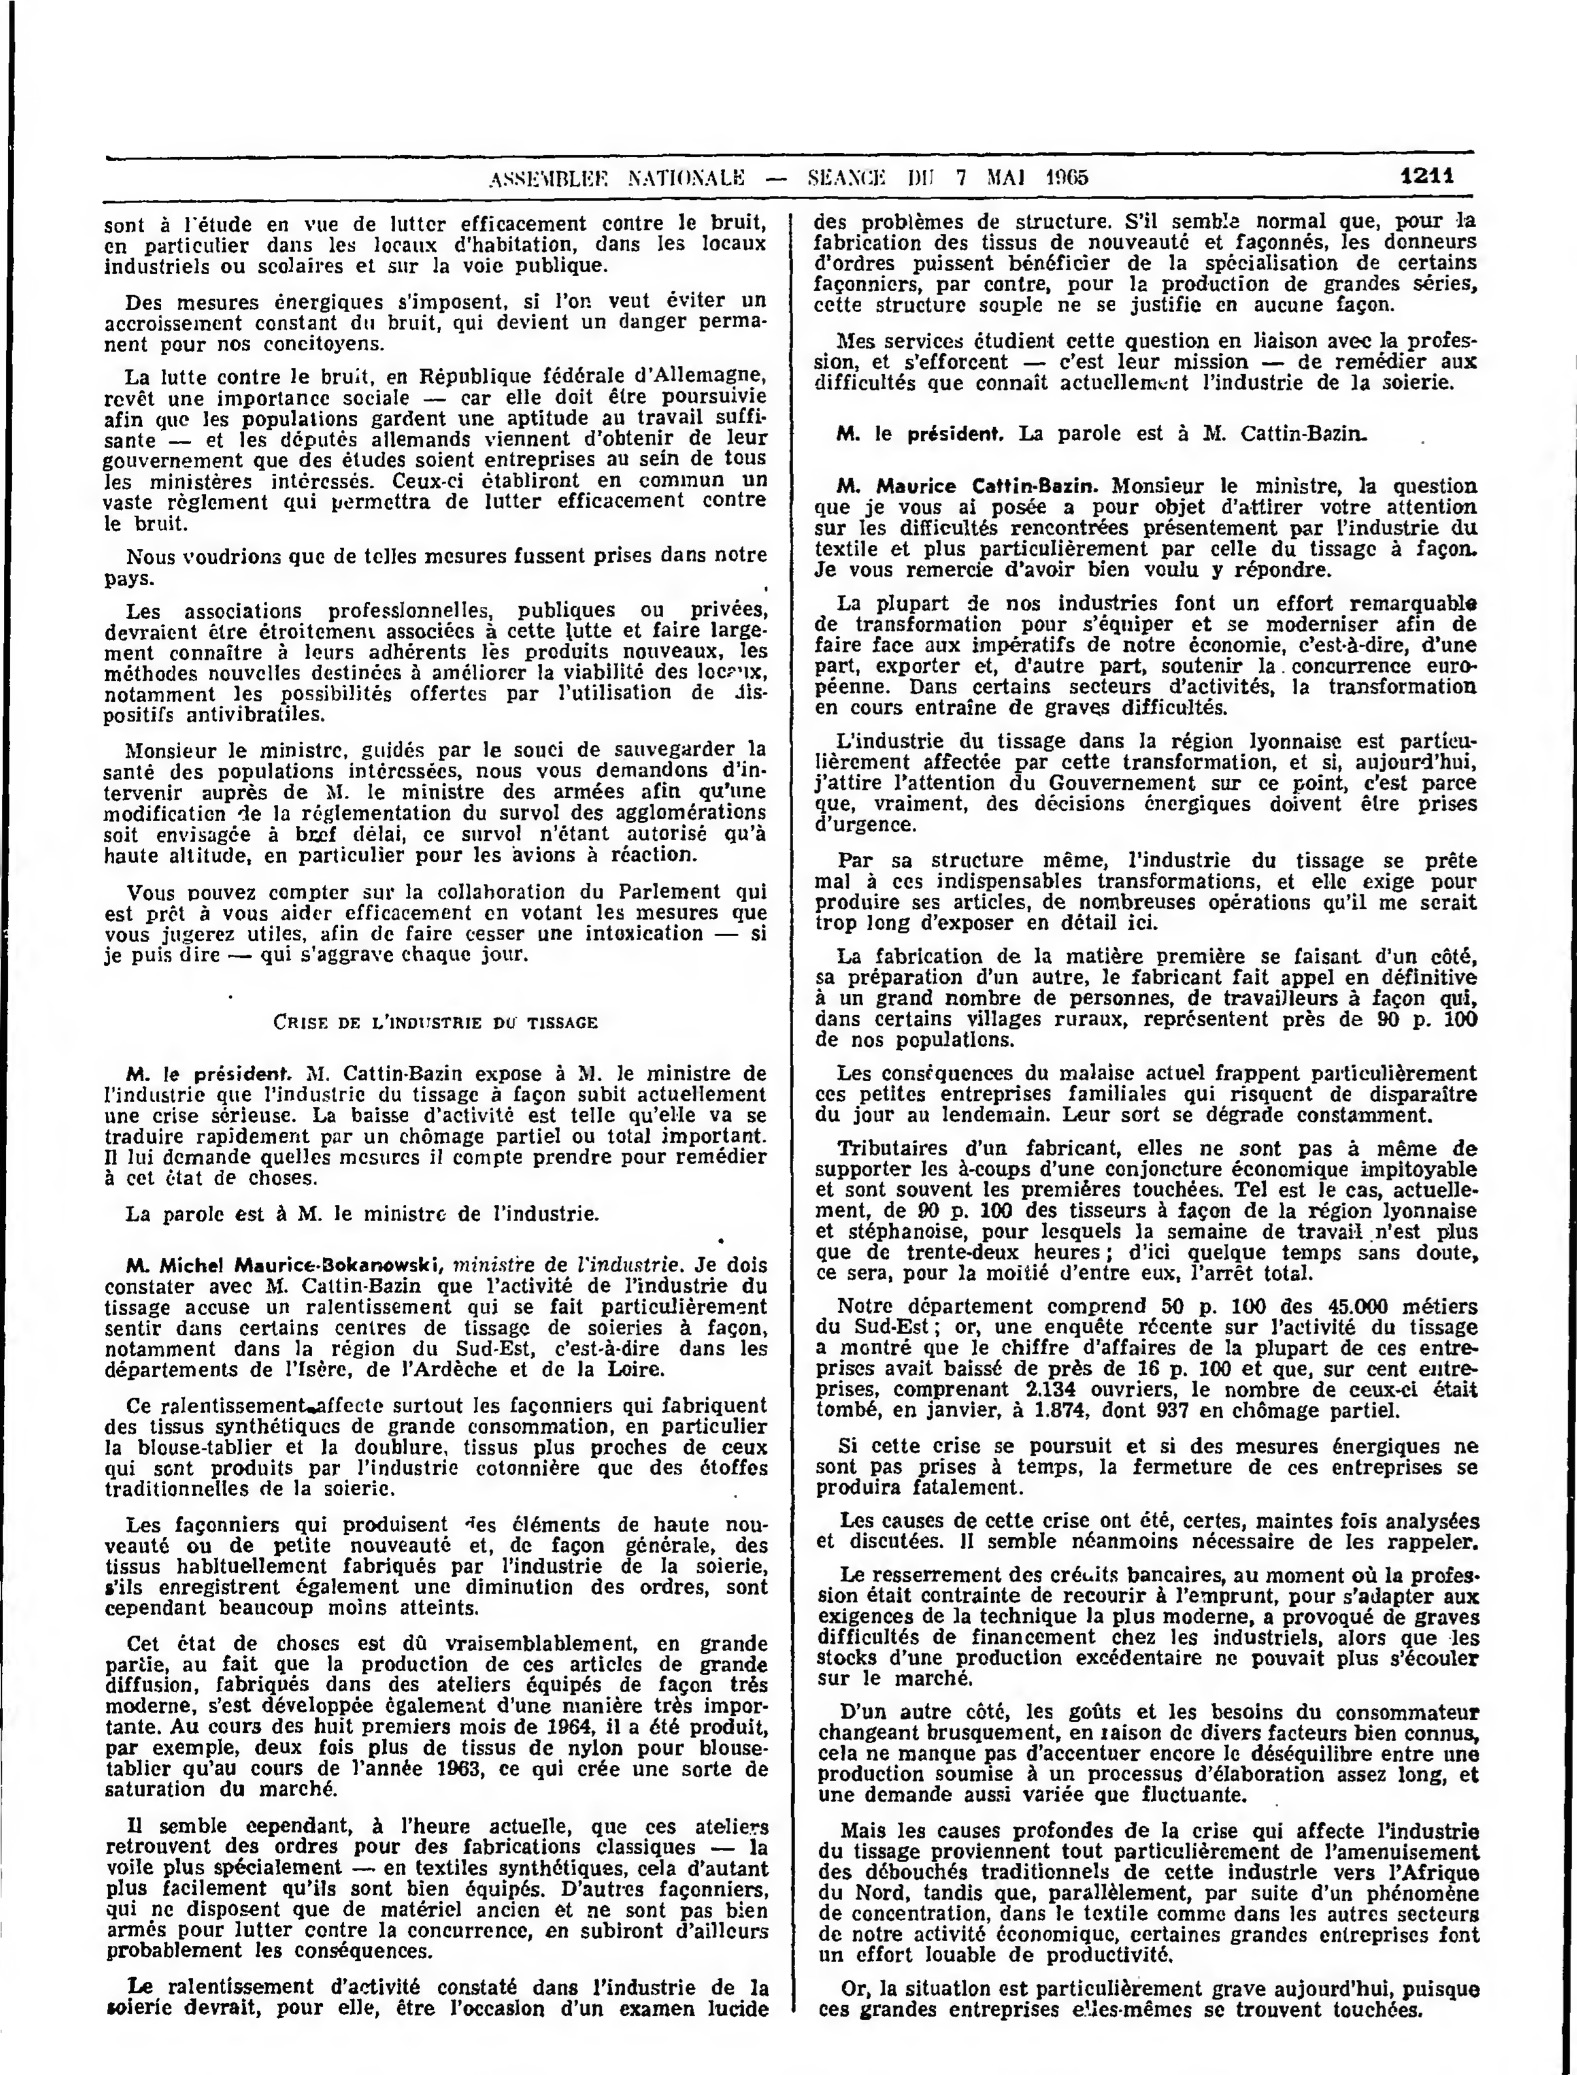MainZone-Continued: (807, 207, 1484, 321), (97, 206, 774, 281)
MainZone-Head: (264, 1003, 605, 1043)
MainZone-P: (97, 1630, 776, 1804), (97, 363, 775, 537), (810, 1134, 1488, 1287), (99, 1812, 778, 1964), (814, 1816, 1490, 1967), (96, 735, 775, 871), (95, 1057, 774, 1192), (96, 1250, 775, 1385), (810, 1291, 1489, 1426), (808, 589, 1483, 722), (96, 596, 775, 728), (813, 1561, 1489, 1693), (810, 469, 1486, 585), (96, 1509, 775, 1624), (809, 941, 1486, 1055), (96, 1390, 775, 1503), (810, 725, 1486, 838), (814, 1696, 1489, 1808), (95, 876, 774, 973), (809, 844, 1486, 938), (807, 324, 1484, 404), (96, 286, 773, 360), (810, 1430, 1486, 1504), (809, 1059, 1484, 1130), (99, 1972, 777, 2029), (96, 541, 776, 596), (813, 1975, 1488, 2029), (811, 1507, 1487, 1559), (816, 414, 1402, 455), (97, 1196, 610, 1233)
NumberingZone: (1395, 159, 1462, 190)
RunningTitleZone: (484, 160, 1097, 196)
